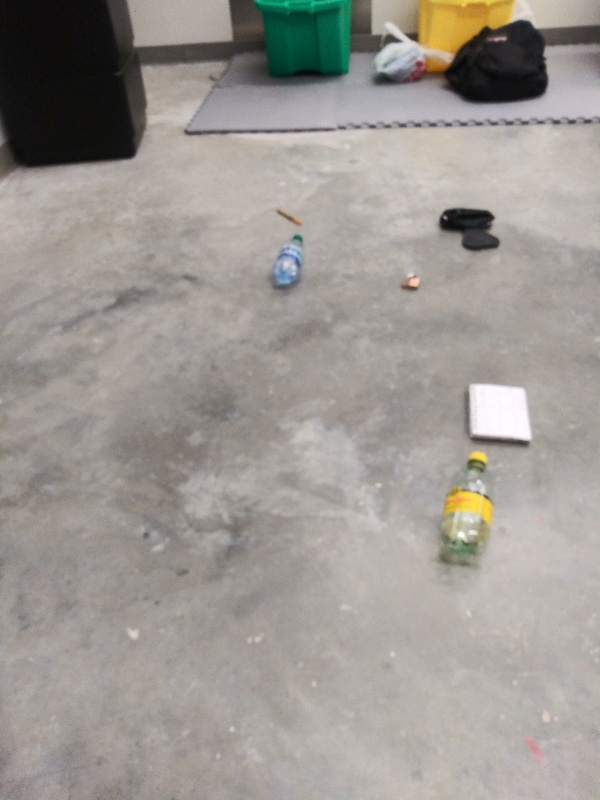bottle: (434, 444, 498, 569), (267, 229, 312, 289)
